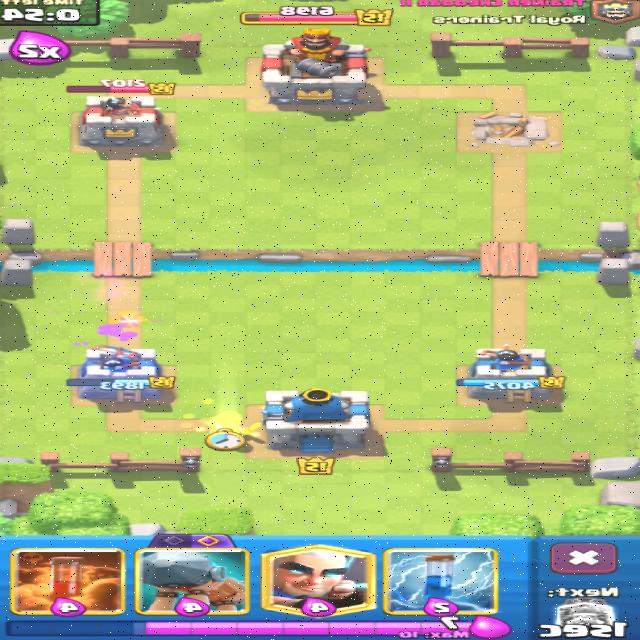Enemy-KingTower-Activated: (262, 27, 367, 104)
Enemy-PrincessTower: (80, 95, 166, 149)
Player-Bandit: (211, 411, 262, 438)
Player-KingTower: (262, 387, 371, 452)
Player-PrincessTower: (458, 345, 565, 402), (69, 345, 175, 402)
